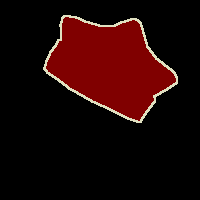hat: (44, 15, 177, 122)
